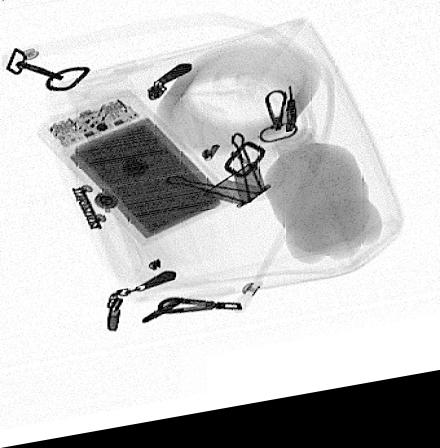Powerbank: (39, 96, 233, 251)
